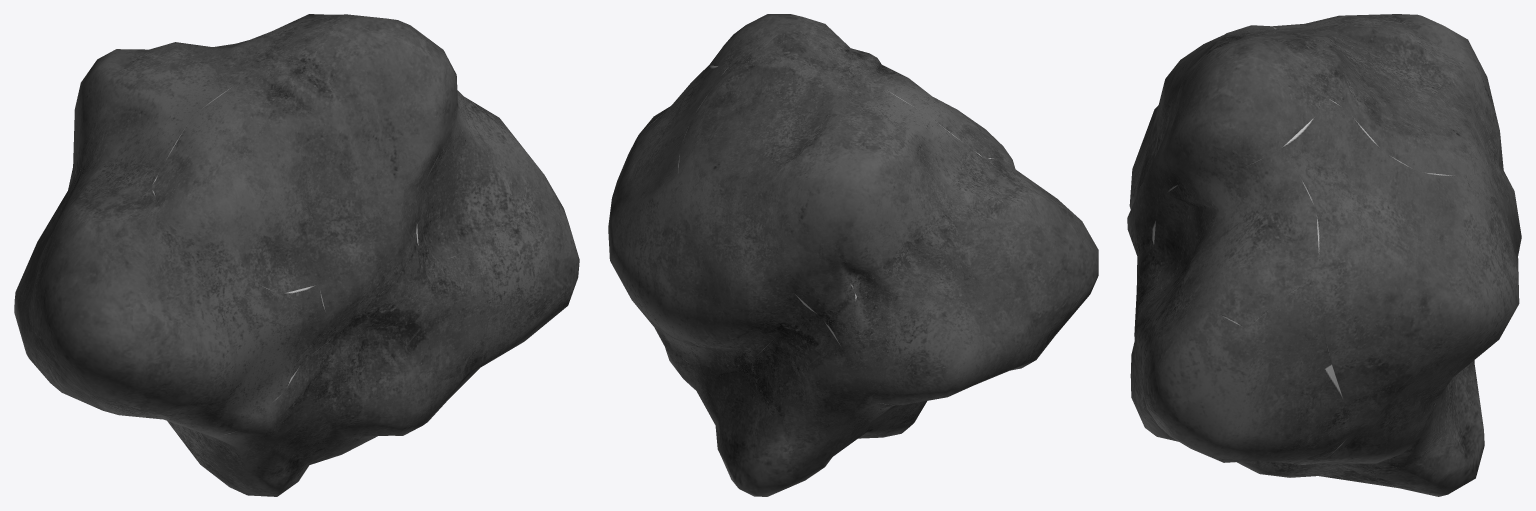
The model's file is asteroid02.glb.
3 views of the same model, side by side, from view 1: azimuth 30°, elevation 25°; view 2: azimuth 150°, elevation 25°; view 3: azimuth 270°, elevation 25° (orthographic). The views are drawn at different scales.
Parts seen in each view (by area): view 1: Group24690; view 2: Group24690; view 3: Group24690.
Part boxes in pixels (x1,y1,x2,y2): Group24690: (14,14,579,496); Group24690: (608,14,1098,496); Group24690: (1127,14,1521,496).
Size of the model in its own units: 4.19 by 3.61 by 2.72.
1 material, 1 textured.
